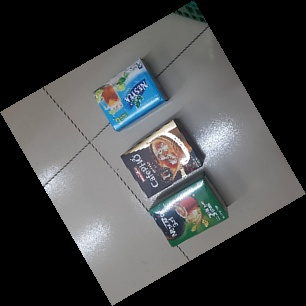CF pho: (121, 118, 204, 201)
Nes Rang: (148, 172, 229, 249)
Nestea: (90, 57, 169, 133)
